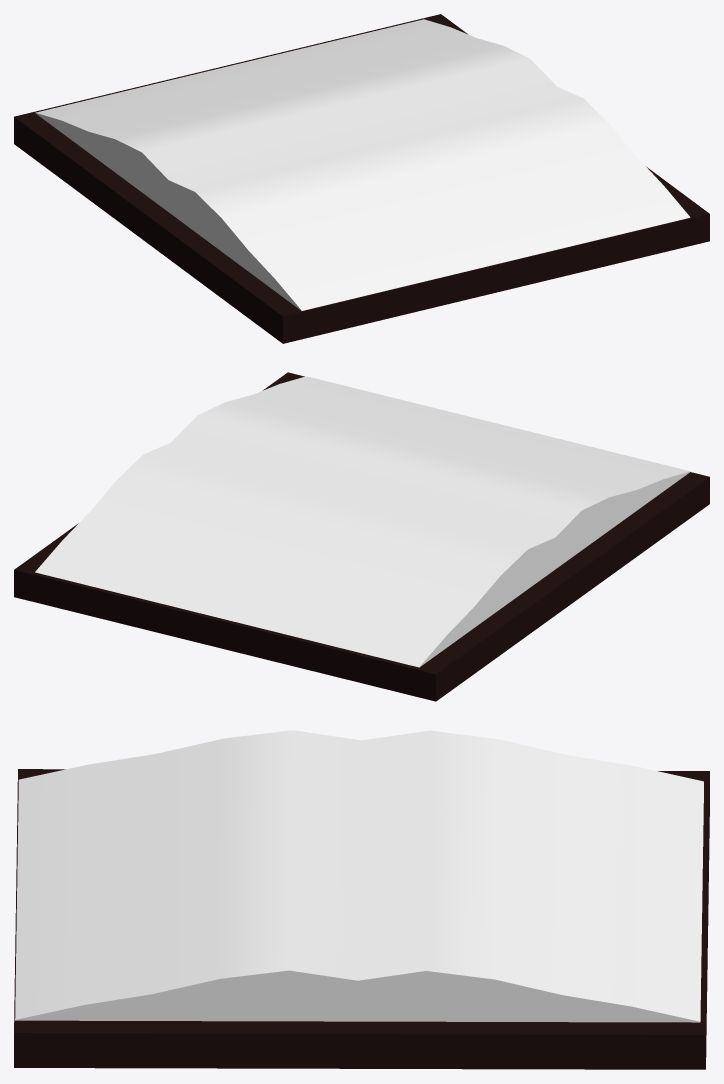
File: Libro.obj
3 renders of one model, top to bottom at view 1: azimuth 30°, elevation 25°; view 2: azimuth 150°, elevation 25°; view 3: azimuth 270°, elevation 25°, orthographic. The views are drawn at different scales.
Visible parts, largest first — view 1: Cuarto:pCube25 group, group Cuarto:pCube25polySurface4; view 2: Cuarto:pCube25 group, group Cuarto:pCube25polySurface4; view 3: Cuarto:pCube25 group, group Cuarto:pCube25polySurface4.
Boxes of the visible parts, left/top/right/bottom form: Cuarto:pCube25 group: left=35, top=19, right=690, bottom=310; group Cuarto:pCube25polySurface4: left=14, top=14, right=709, bottom=343; Cuarto:pCube25 group: left=35, top=376, right=690, bottom=667; group Cuarto:pCube25polySurface4: left=14, top=372, right=709, bottom=701; Cuarto:pCube25 group: left=15, top=730, right=703, bottom=1022; group Cuarto:pCube25polySurface4: left=14, top=769, right=709, bottom=1069.
Bounding box in the file's own units: 0.8117 × 0.1229 × 0.8979.
